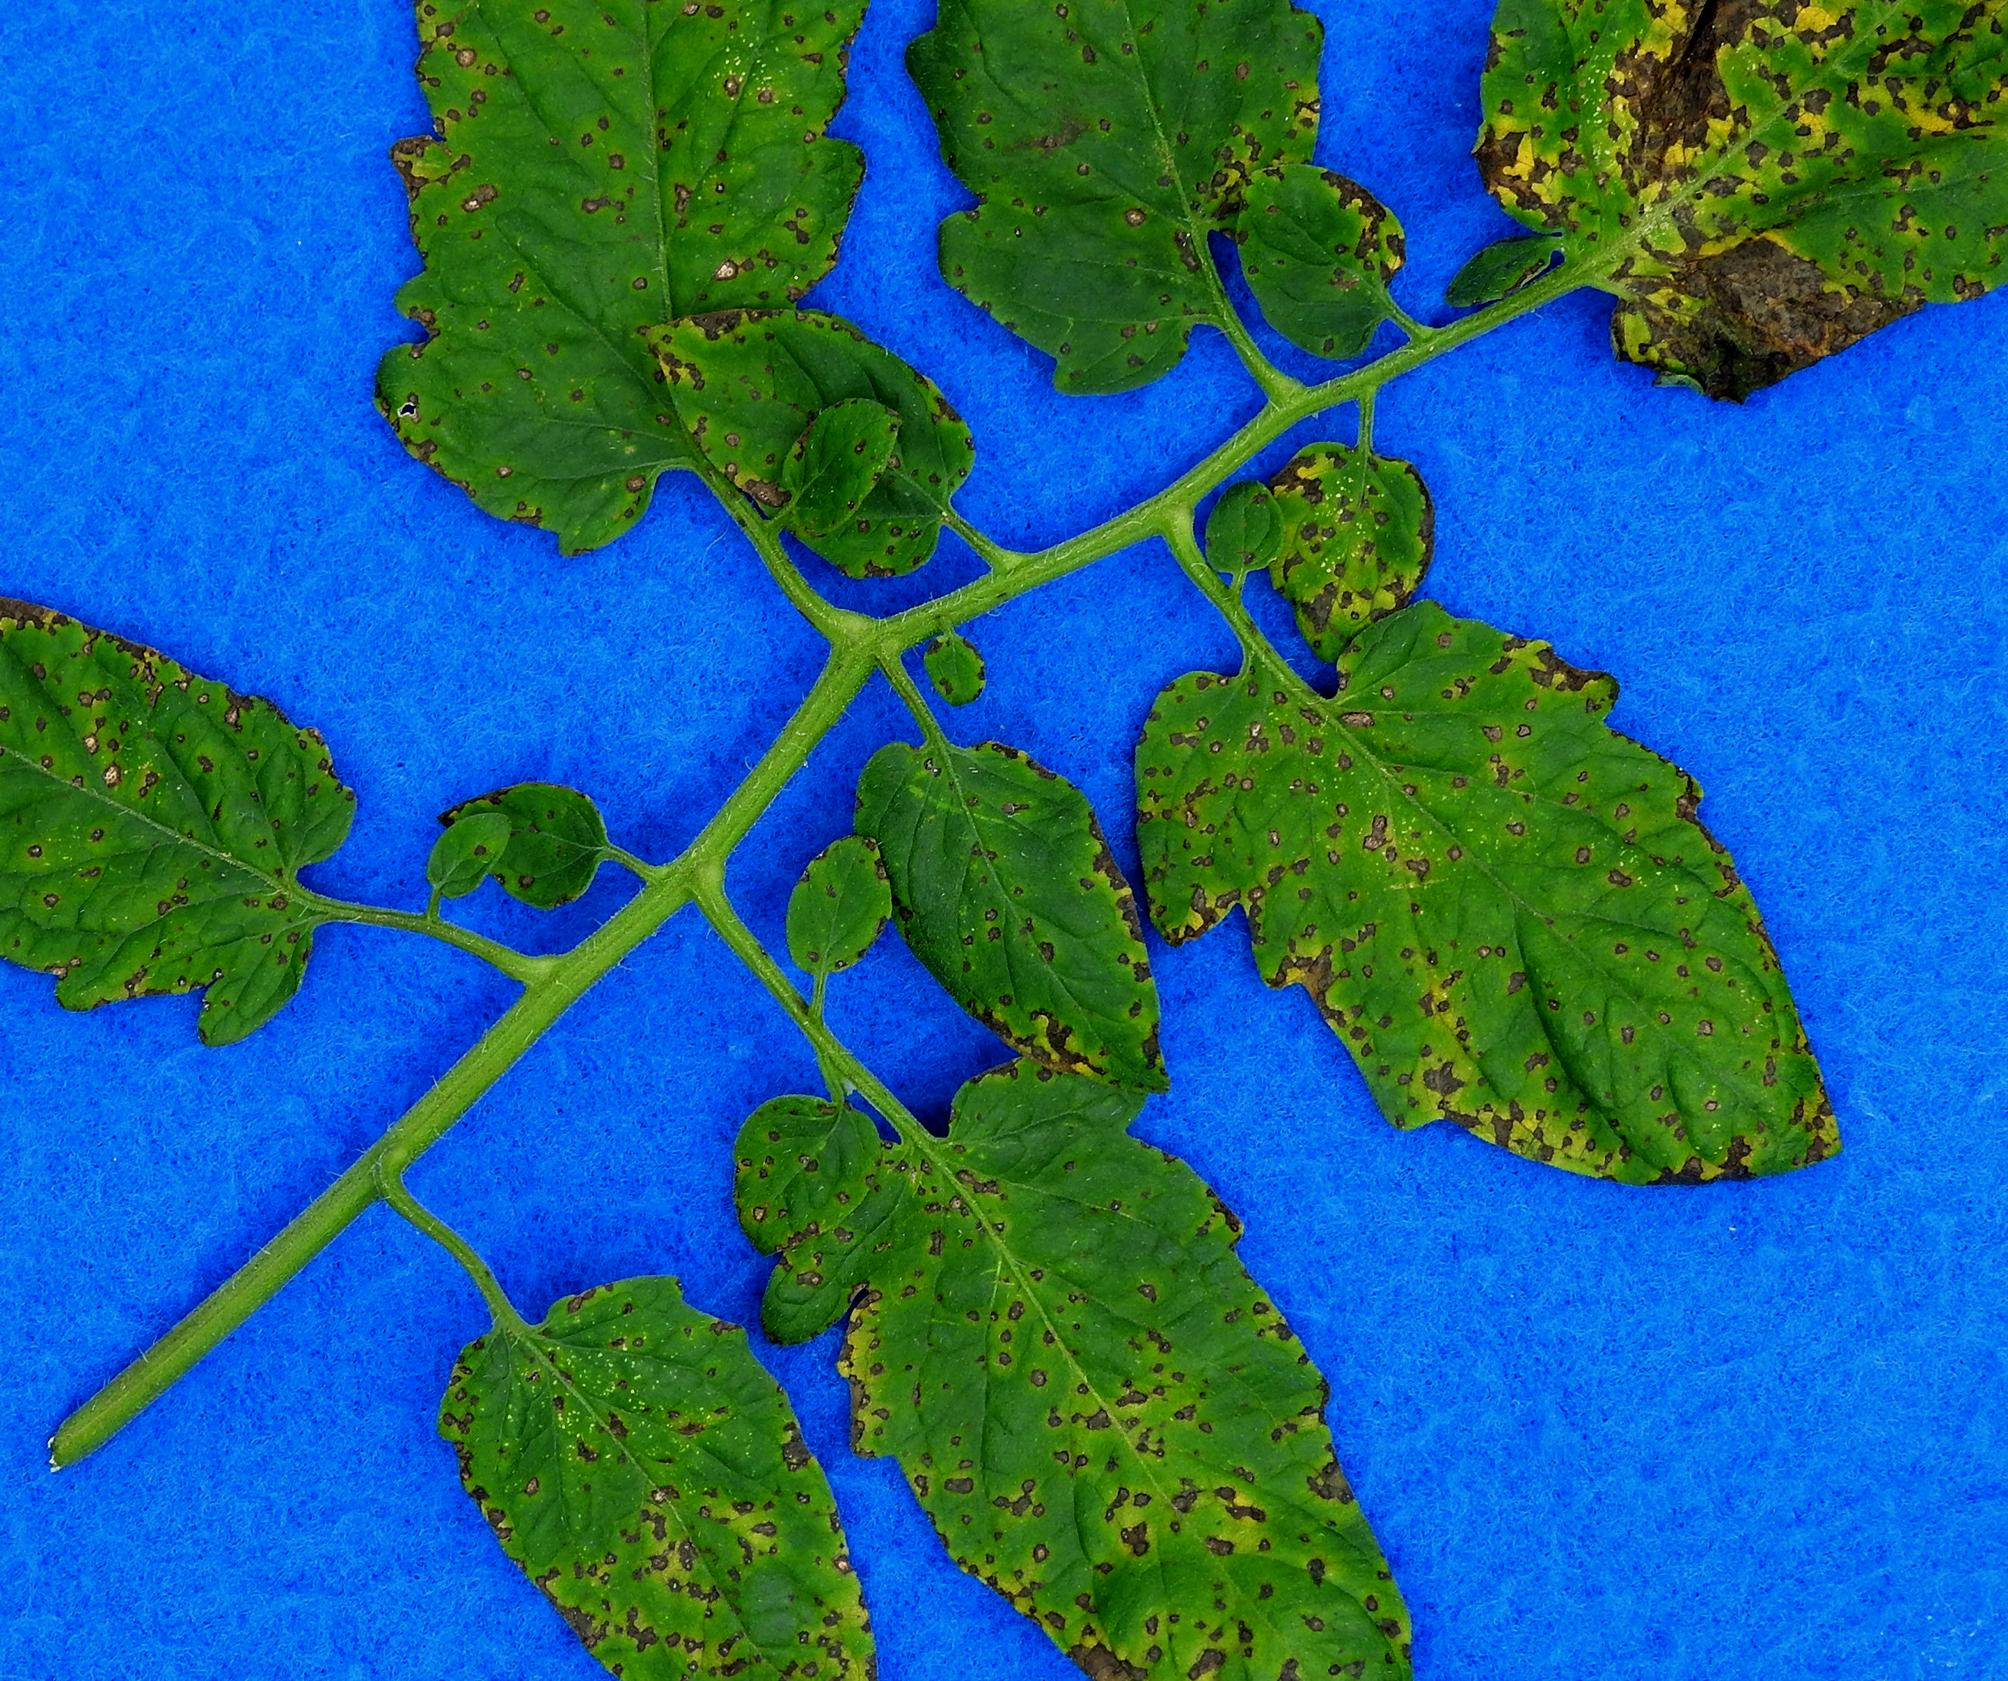Tomato Septoria leaf spot: (1127, 592, 1839, 1211), (773, 1014, 1422, 1681), (368, 0, 901, 688), (1448, 0, 2008, 449), (867, 0, 1477, 404), (421, 1234, 909, 1681), (0, 514, 370, 1084), (858, 718, 1184, 1095), (635, 291, 1029, 588)
